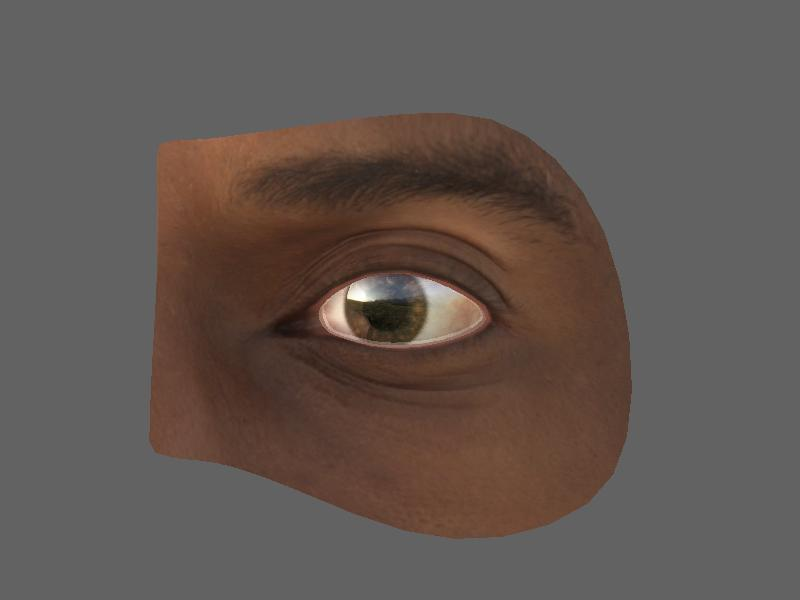iris: (343, 277, 427, 345)
